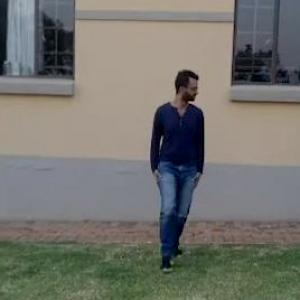follow: (149, 58, 216, 293)
